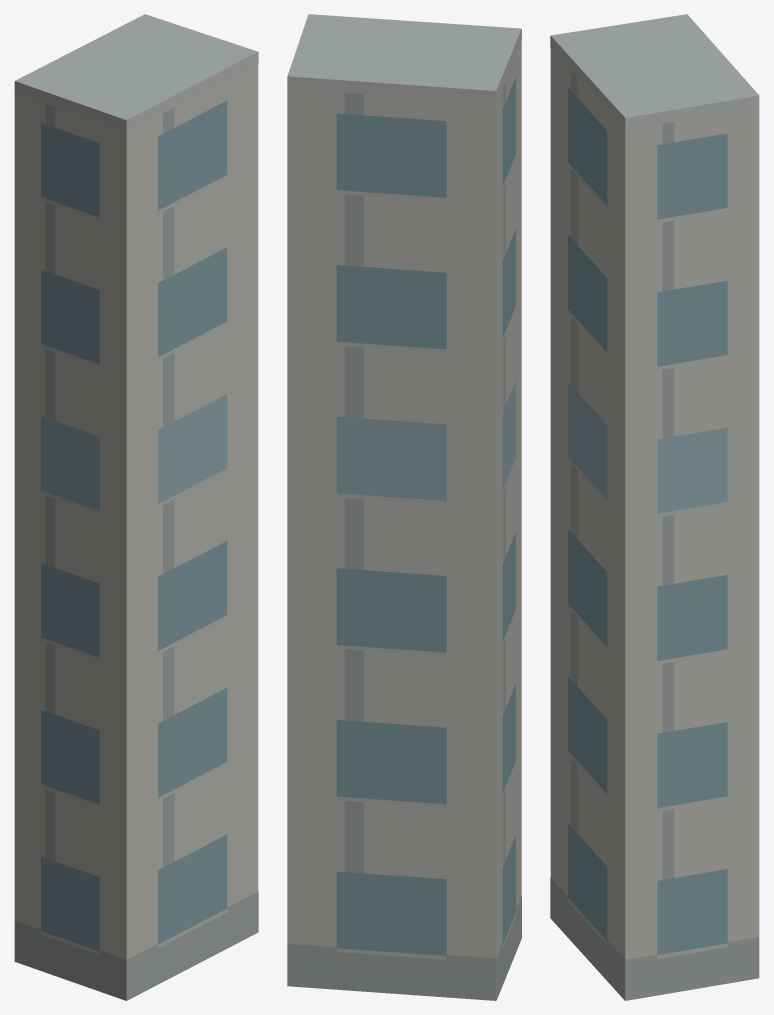
Rendered from survey-upis-32982768.glb.
3 views of the same model, side by side, from view 1: azimuth 30°, elevation 25°; view 2: azimuth 150°, elevation 25°; view 3: azimuth 270°, elevation 25° (orthographic). The views are drawn at different scales.
Parts seen in each view (by area): view 1: survey-upis-32982768.tmp; view 2: survey-upis-32982768.tmp; view 3: survey-upis-32982768.tmp.
Part boxes in pixels (<box>): survey-upis-32982768.tmp: <box>14,14,258,1000</box>; survey-upis-32982768.tmp: <box>287,14,521,1000</box>; survey-upis-32982768.tmp: <box>550,14,759,1000</box>.
Size of the model in its own units: 4.64 by 18.3 by 3.93.
